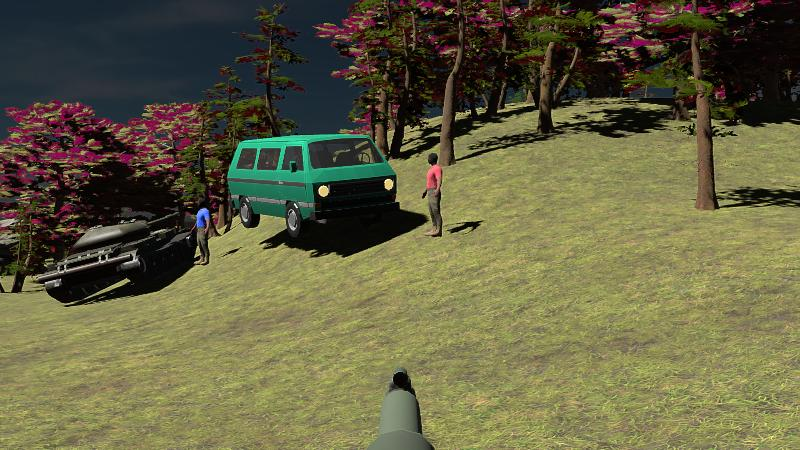Human: (422, 151, 442, 238), (191, 196, 210, 266)
Tank: (36, 211, 196, 305)
car: (227, 133, 399, 240)
